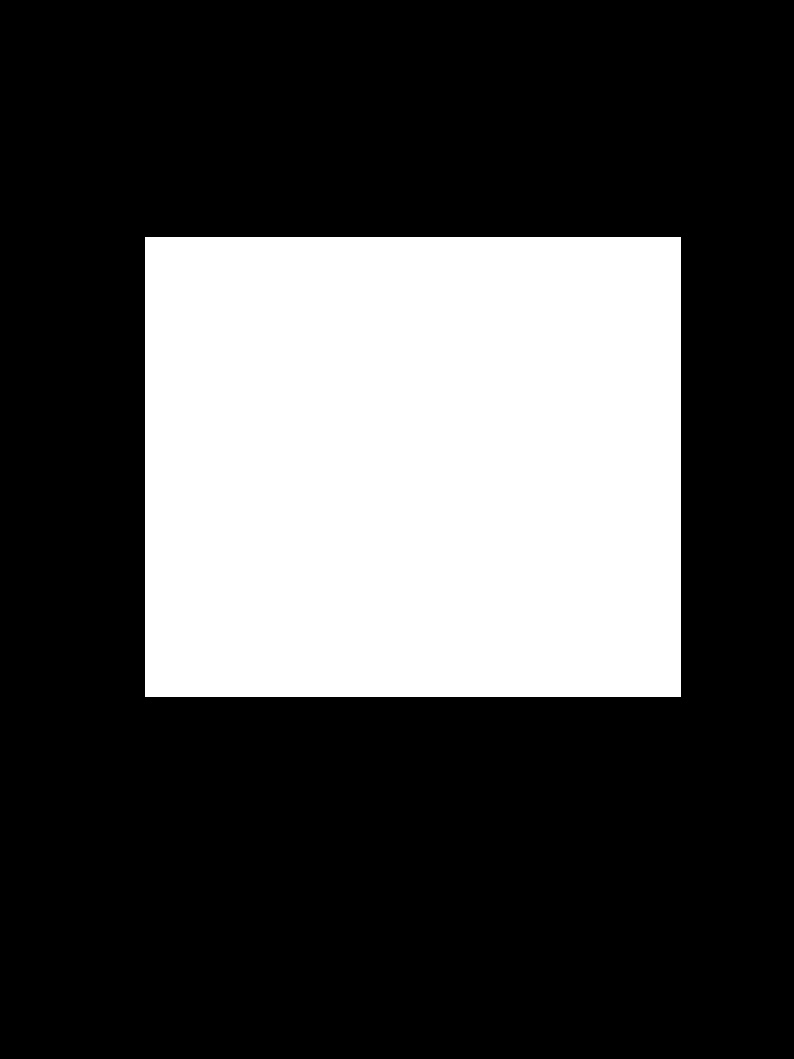table: (145, 237, 680, 696)
